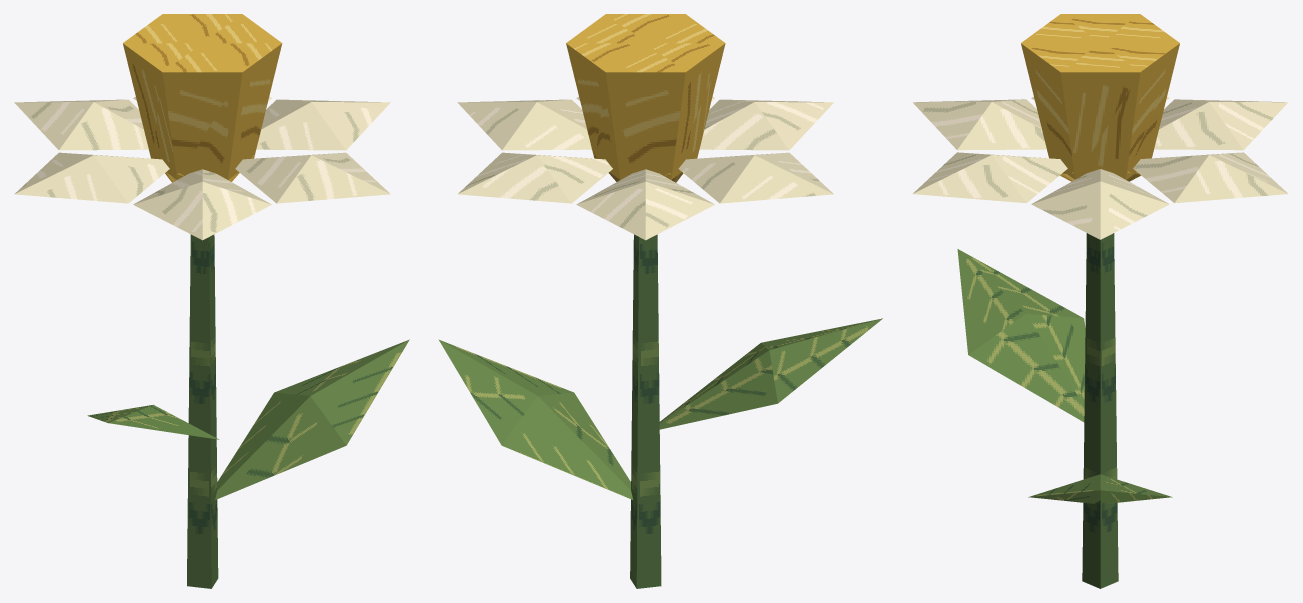
File: flor-narciso-v01.gltf
3 views of the same model, side by side, from view 1: azimuth 30°, elevation 25°; view 2: azimuth 150°, elevation 25°; view 3: azimuth 270°, elevation 25° (orthographic).
Visible parts, largest first — view 1: petalas, trombeta, folhas, hastes; view 2: petalas, trombeta, folhas, hastes; view 3: petalas, trombeta, folhas, hastes.
Part boxes in pixels (x1,y1,x2,y2): petalas: (14,97,390,240); trombeta: (123,14,282,179); folhas: (87,339,409,499); hastes: (187,234,218,588); petalas: (457,97,833,240); trombeta: (566,14,725,179); folhas: (438,318,882,499); hastes: (630,234,661,588); petalas: (913,96,1287,239); trombeta: (1021,14,1179,179); folhas: (957,249,1172,503); hastes: (1082,233,1118,588).
Bounding box in the file's own units: 0.63 × 0.82 × 0.5196.
Materials: 1 (1 with a texture image).
